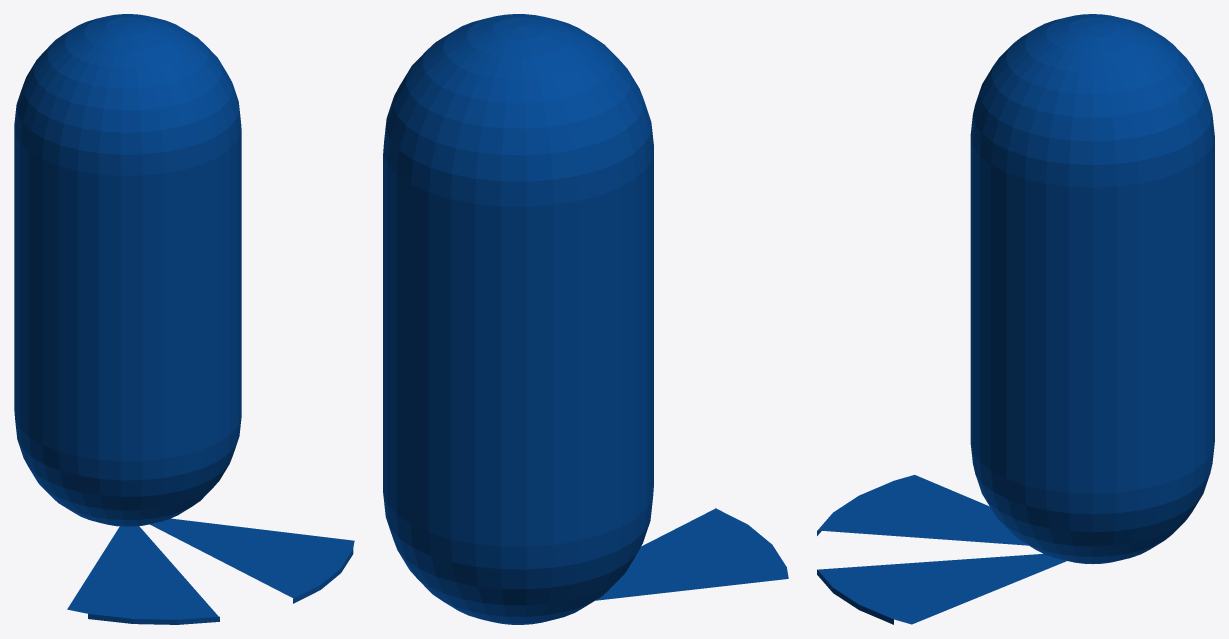
3 views of the same model, side by side, from view 1: azimuth 30°, elevation 25°; view 2: azimuth 150°, elevation 25°; view 3: azimuth 270°, elevation 25° (orthographic). The views are drawn at different scales.
Visible parts, largest first — view 1: Sphere; view 2: Sphere; view 3: Sphere.
Boxes of the visible parts, box(x1,y1,x2,y2) form: Sphere: box(14, 14, 354, 624); Sphere: box(383, 14, 788, 624); Sphere: box(817, 14, 1214, 624).
Size of the model in its own units: 1.16 by 1.92 by 1.3.
1 material, 1 textured.
